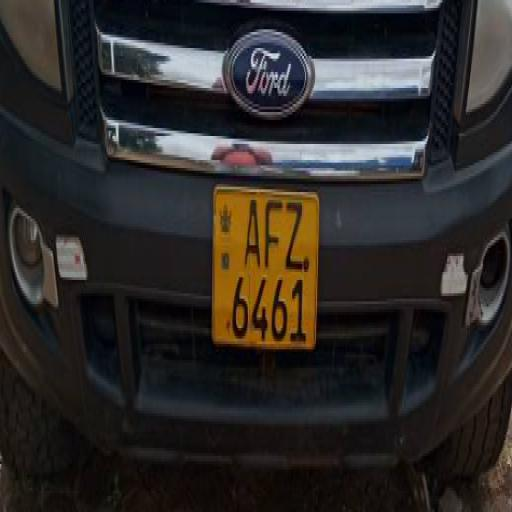number-plates: (215, 187, 310, 363)
